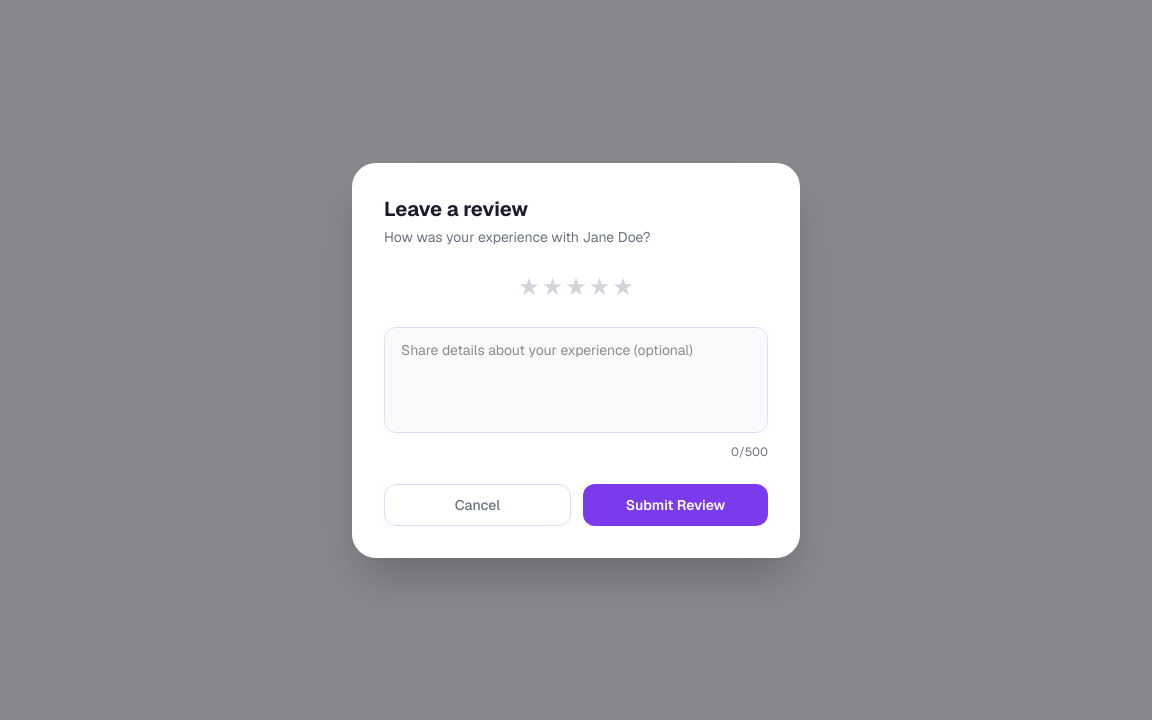
ReviewModal › shows API error message on failure
This screenshot has width=1152, height=720.
Click the 1st button "★" at coordinates (529, 286), box [518,270,540,302]
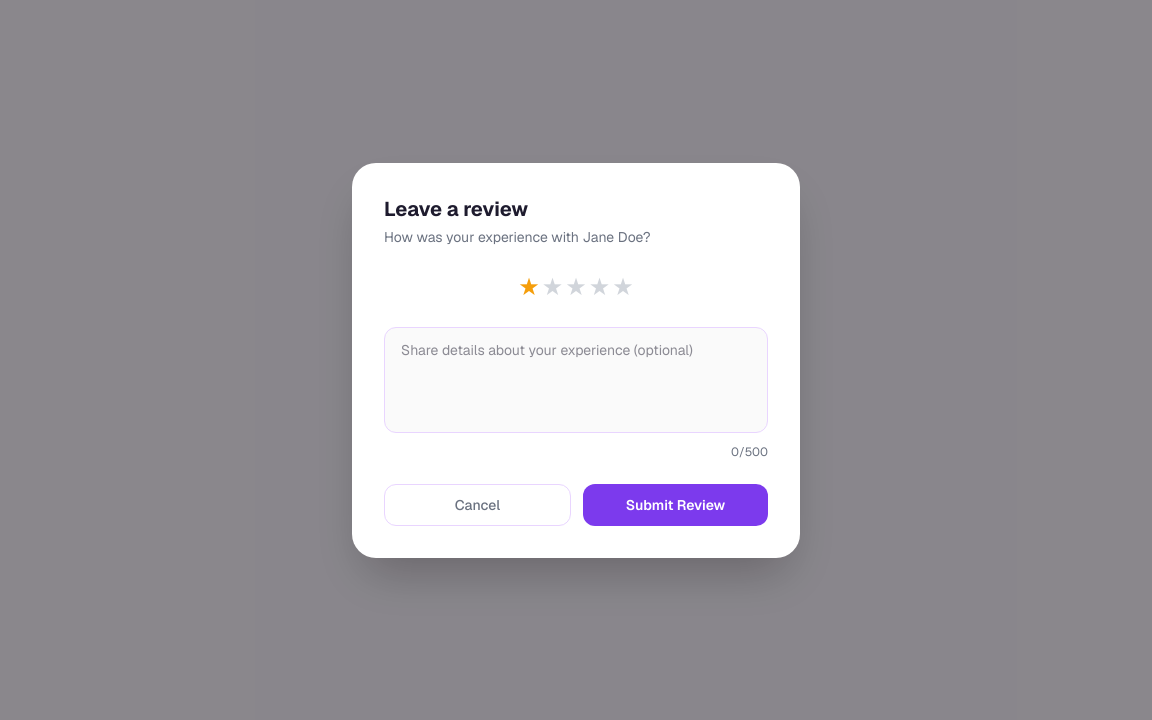
Click the button "Submit Review" at coordinates (676, 504), box [583,484,768,526]
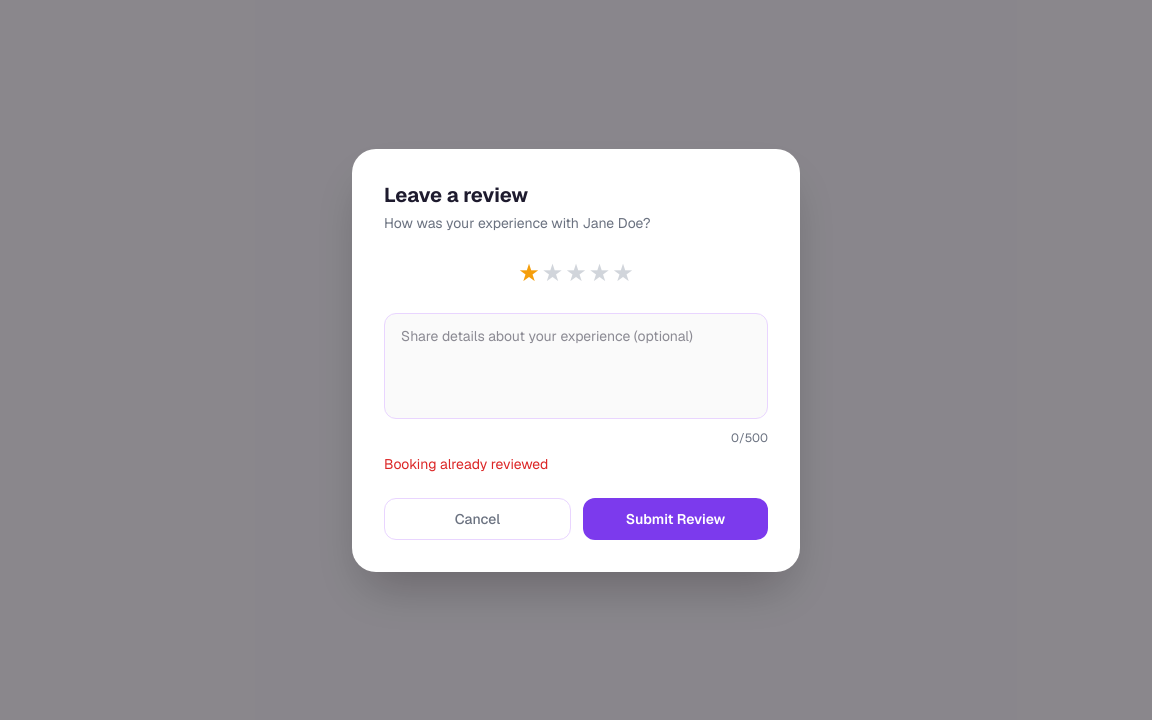
Expected: the text "Booking already reviewed" is shown, [384,454,548,472]
